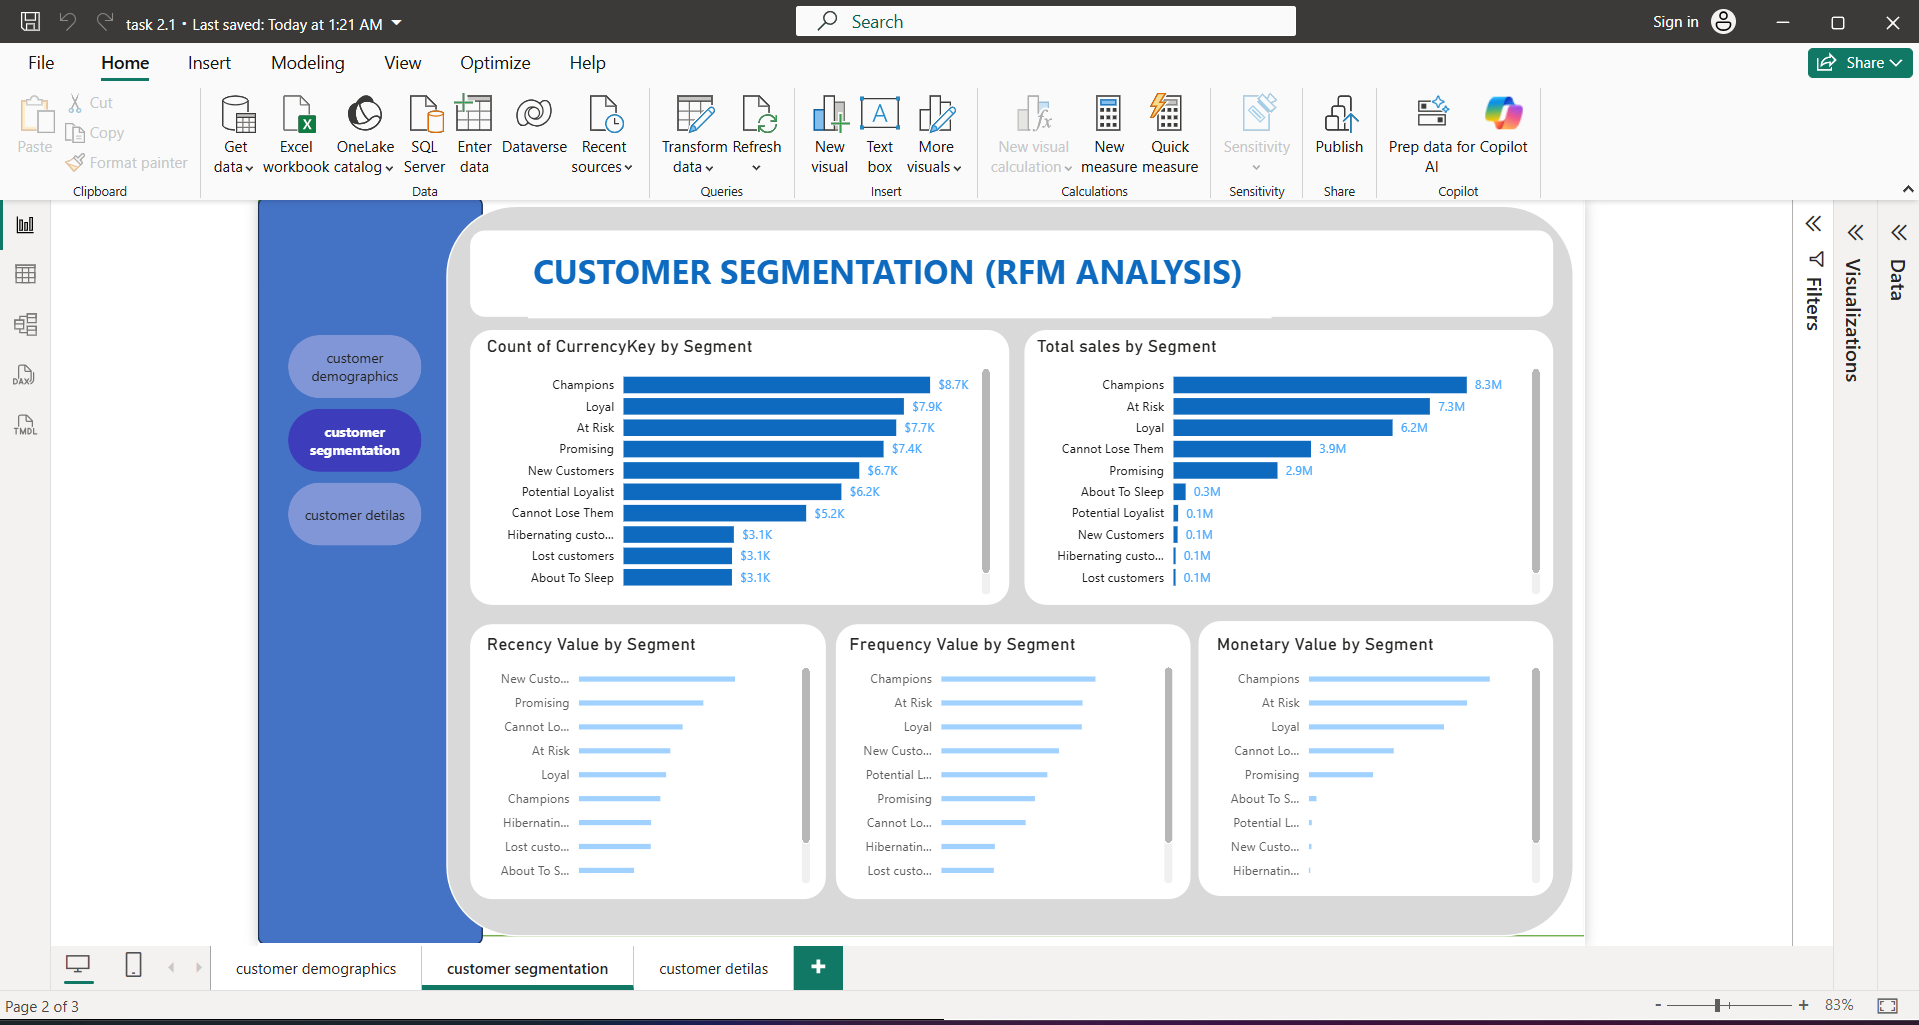

This screenshot's page, from the dashboard's own definition file:
{"tool":"powerbi","page":{"name":"customer segmentation","canvas":[1280,720],"ordinal":1},"visuals":[{"type":"barChart","fields":{"Y":["CountNonNull(FactInternetSales.CurrencyKey)"],"Category":["Segment Table.Segment"]},"box":[216,130.3,495.8,255.8],"z":0},{"type":"barChart","fields":{"Category":["Segment Table.Segment"],"Y":["Sum(FactInternetSales.SalesAmount)"]},"box":[746.8,130.3,495.8,255.8],"z":1000},{"type":"barChart","fields":{"Y":["Sum(RFM Table.Recency Value)"],"Category":["Segment Table.Segment"]},"box":[216,418.6,322.1,246.1],"z":2000},{"type":"barChart","fields":{"Category":["Segment Table.Segment"],"Y":["Sum(RFM Table.Frequency Value)"]},"box":[565.8,418.6,322.1,246.1],"z":3000},{"type":"barChart","fields":{"Category":["Segment Table.Segment"],"Y":["Sum(RFM Table.Monetary Value)"]},"box":[920.5,418.6,322.1,246.1],"z":4000},{"type":"pageNavigator","box":[29,130.3,129.1,203.9],"z":5000},{"type":"textbox","box":[260.6,42.2,717.8,72.4],"z":6000}]}

Visuals, with their boxes on the page's 1280x720 design canvas (x1, y1, x2, y2). These are canvas units, not pixel positions in the 1919x1025 screenshot, which may show the page scaled, cropped or inside an application window:
barChart - CountNonNull(FactInternetSales.CurrencyKey) x Segment Table.Segment: {"x1": 216, "y1": 130, "x2": 712, "y2": 386}
barChart - Segment Table.Segment x Sum(FactInternetSales.SalesAmount): {"x1": 747, "y1": 130, "x2": 1243, "y2": 386}
barChart - Sum(RFM Table.Recency Value) x Segment Table.Segment: {"x1": 216, "y1": 419, "x2": 538, "y2": 665}
barChart - Segment Table.Segment x Sum(RFM Table.Frequency Value): {"x1": 566, "y1": 419, "x2": 888, "y2": 665}
barChart - Segment Table.Segment x Sum(RFM Table.Monetary Value): {"x1": 920, "y1": 419, "x2": 1243, "y2": 665}
pageNavigator: {"x1": 29, "y1": 130, "x2": 158, "y2": 334}
textbox: {"x1": 261, "y1": 42, "x2": 978, "y2": 115}
